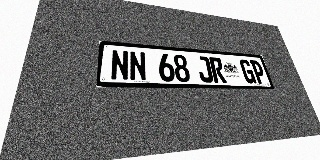6: (157, 53, 176, 82)
8: (172, 54, 191, 82)
G: (239, 59, 257, 83)
J: (196, 56, 214, 82)
N: (110, 49, 129, 81), (129, 51, 147, 81)
P: (249, 60, 267, 84)
R: (209, 57, 227, 83)
